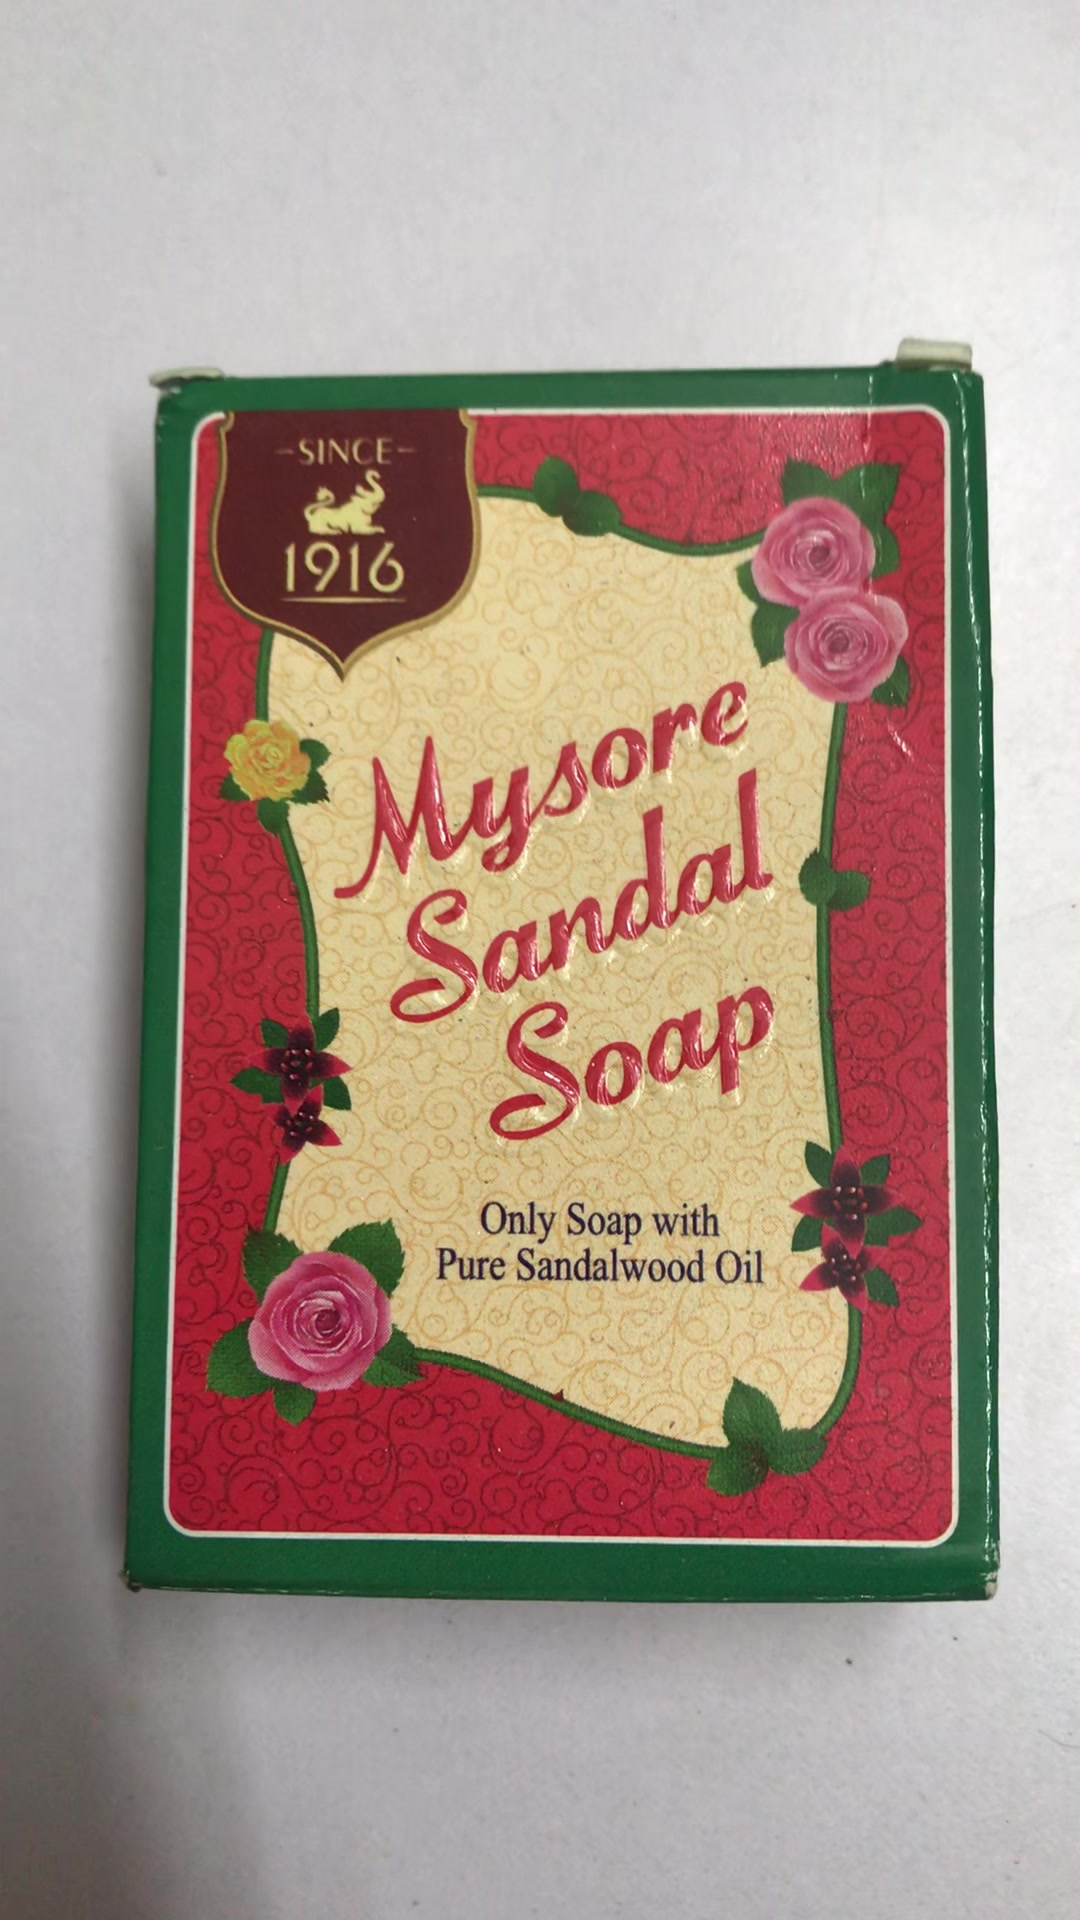mysore sandal soap: (145, 348, 993, 1604)
